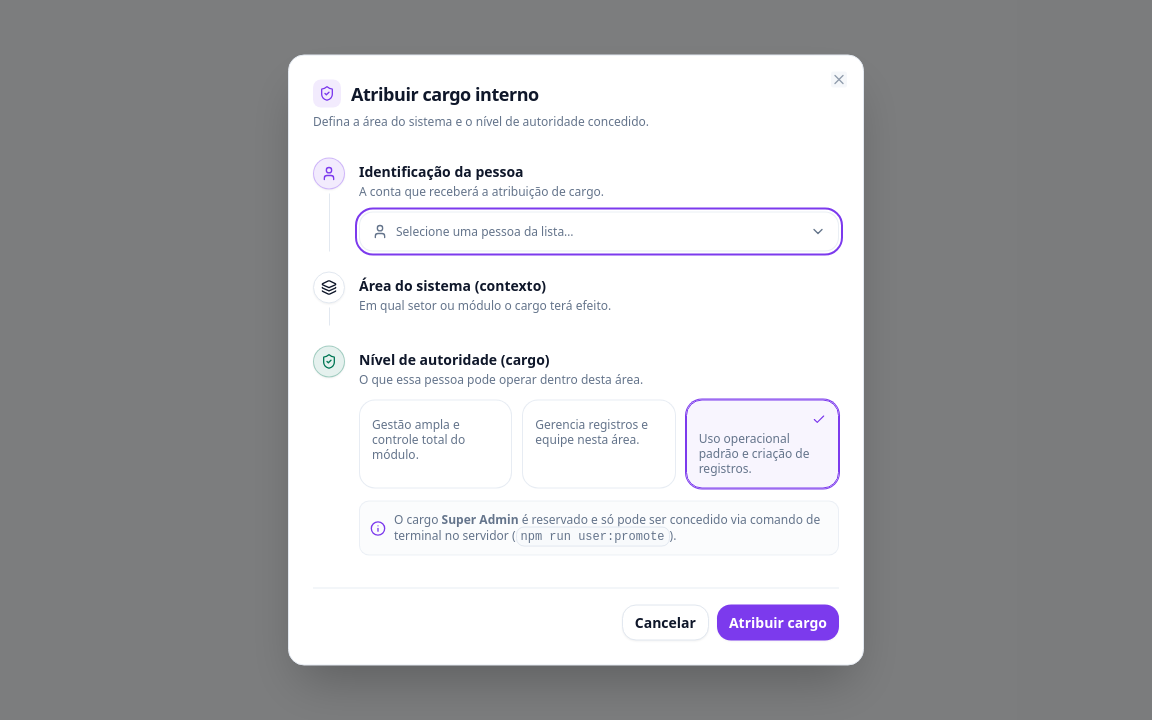
Test: AcerolaRoleFormDialog › filters users by search query inside combobox
Click the button with aria-label "Selecionar pessoa da lista".
click(485, 231)  # box [359,212,839,252]
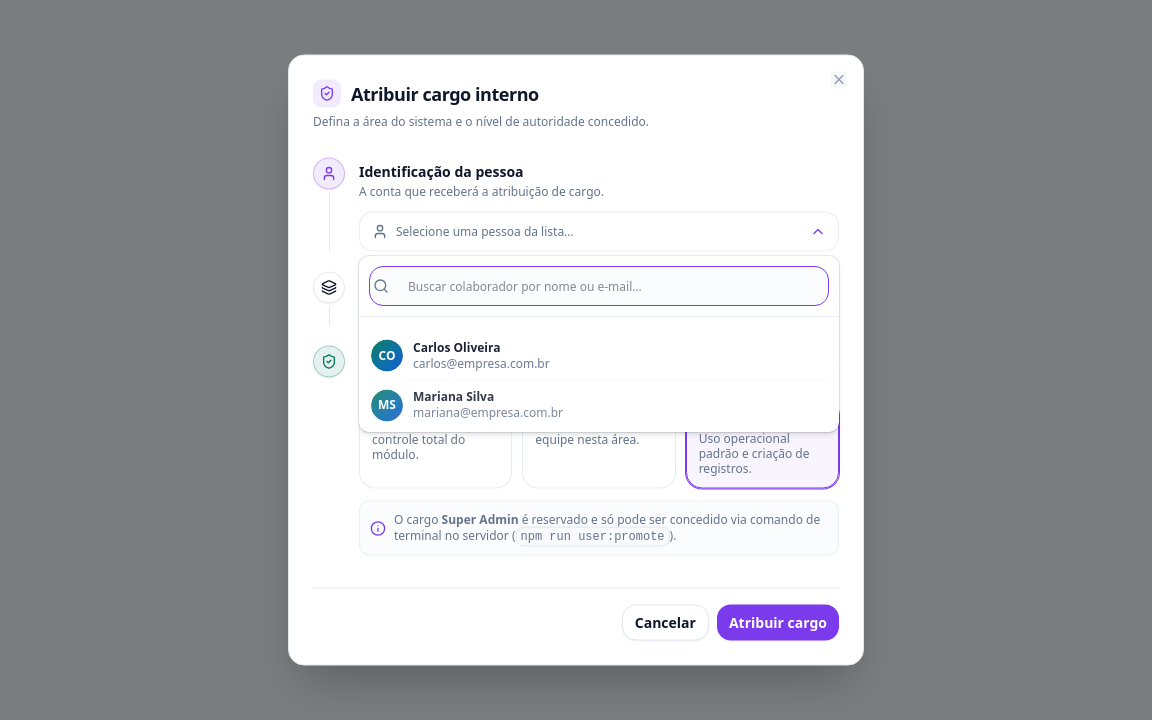
Check: the text "Carlos Oliveira" is shown, box [413,340,500,356]
Check: the text "Mariana Silva" is shown, box [413,390,494,406]
Type "Mariana" into the search field with placeholder "Buscar colaborador por nome ou e-mail…".
click(599, 286); type("Mariana")  # box [369,266,829,306]
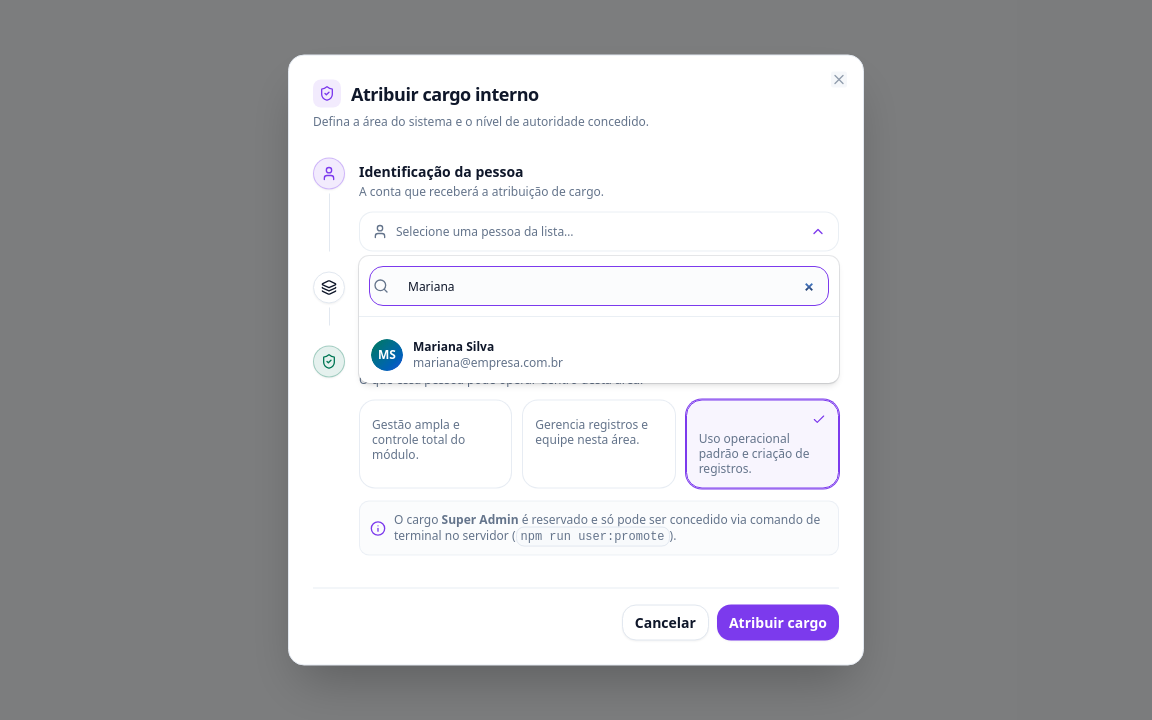
Check: the text "Mariana Silva" is shown, box [413,339,494,355]
Check: the option "Carlos Oliveira" is gone
